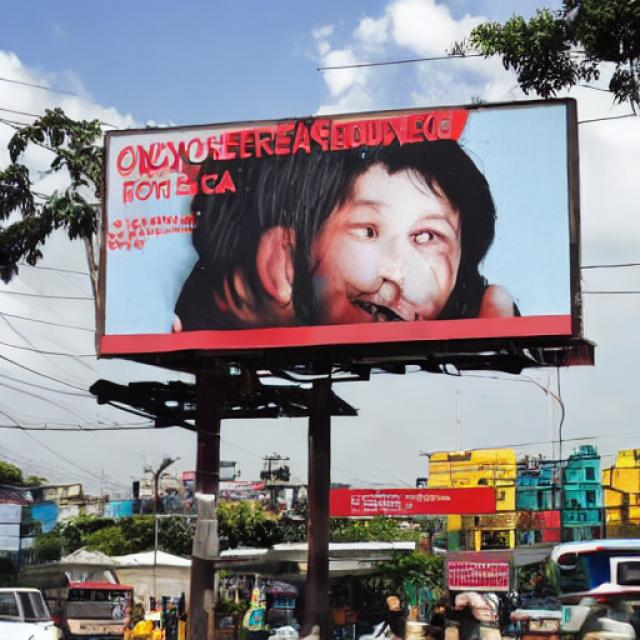Billboard: (97, 97, 595, 371)
